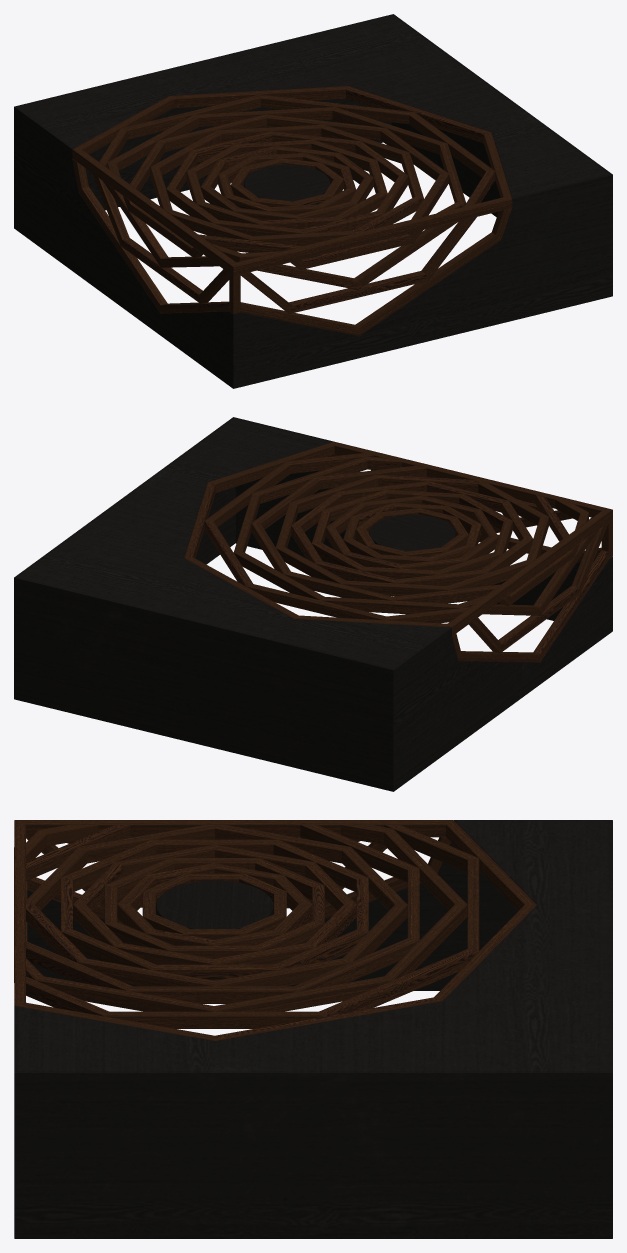
File: ph-table-coffee.glb
3 renders of one model, top to bottom at view 1: azimuth 30°, elevation 25°; view 2: azimuth 150°, elevation 25°; view 3: azimuth 270°, elevation 25°, orthographic. The views are drawn at different scales.
Parts seen in each view (by area): view 1: modern_coffee_table_02; view 2: modern_coffee_table_02; view 3: modern_coffee_table_02.
Part boxes in pixels (box(x1,y1,x2,y2)): modern_coffee_table_02: box(14, 14, 612, 388); modern_coffee_table_02: box(14, 417, 612, 791); modern_coffee_table_02: box(14, 820, 612, 1238).
Bounding box in the file's own units: 1.2 × 0.3692 × 1.2.
Materials: 2 (2 with a texture image).
